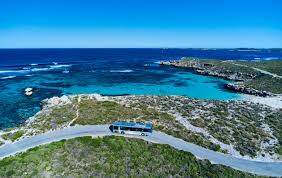bus: (110, 120, 155, 135)
